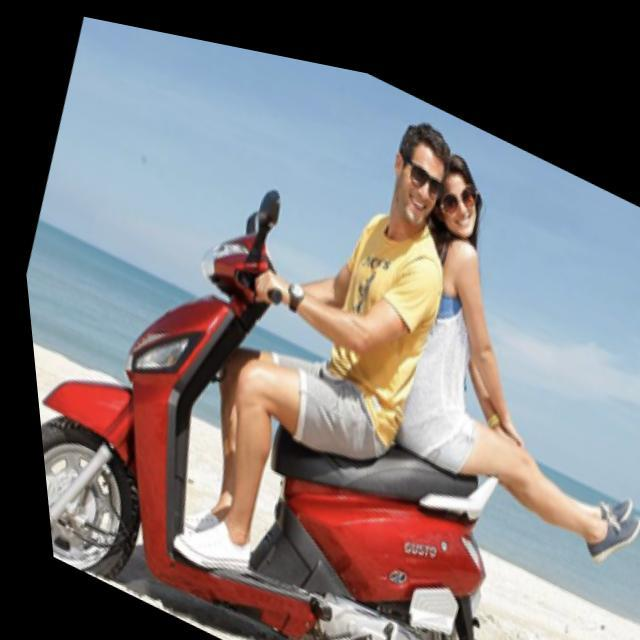Nonhelmet: (386, 117, 454, 234), (427, 144, 487, 246)
